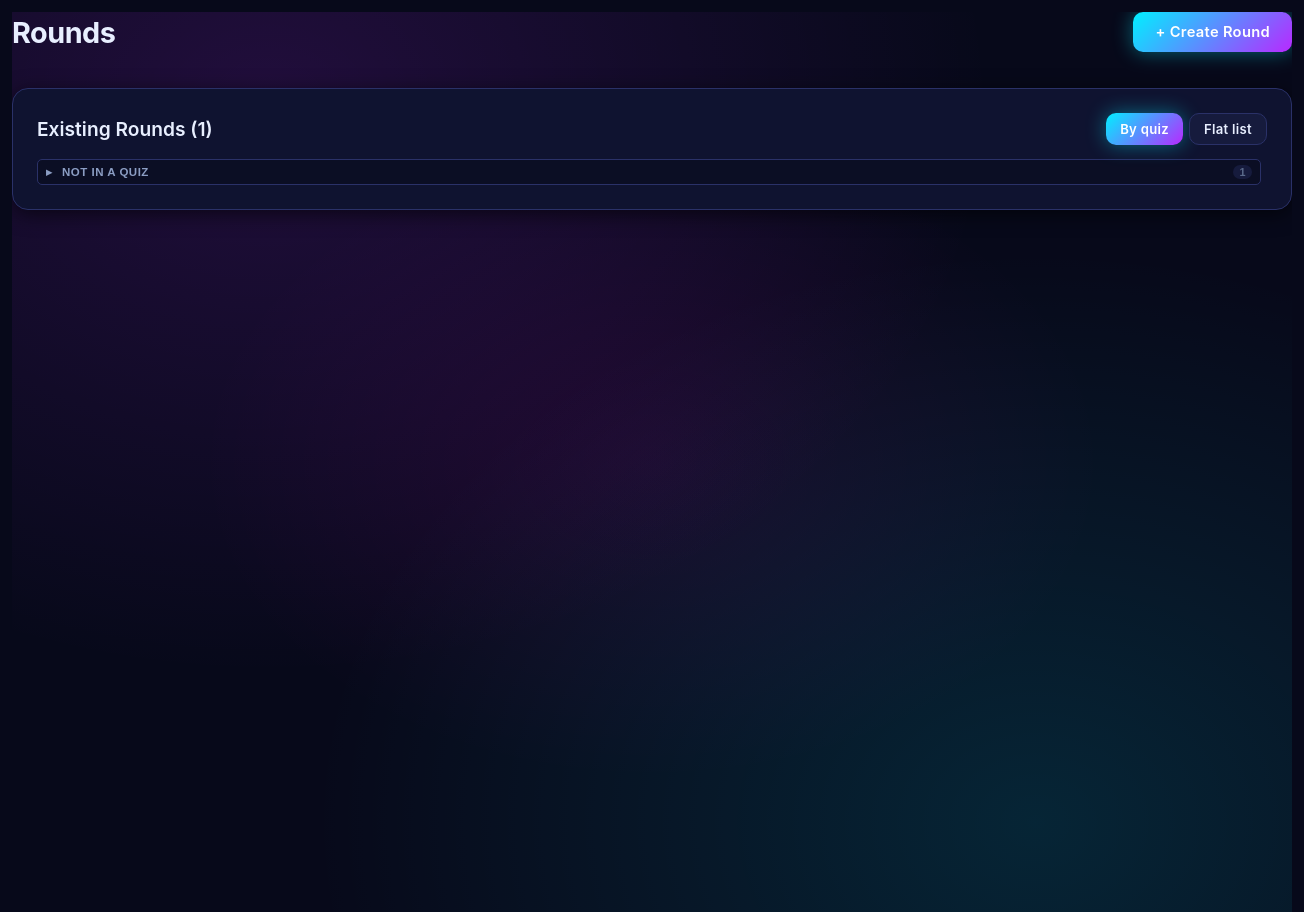
RoundBuilder — round style + category › lists a saved textlist round with Text-list + category badges
Note: Groups start collapsed — open the unassigned group to see the round.
Click the button "▸ Not in a quiz 1".
click(105, 172)  # box 37,159 -> 1261,185
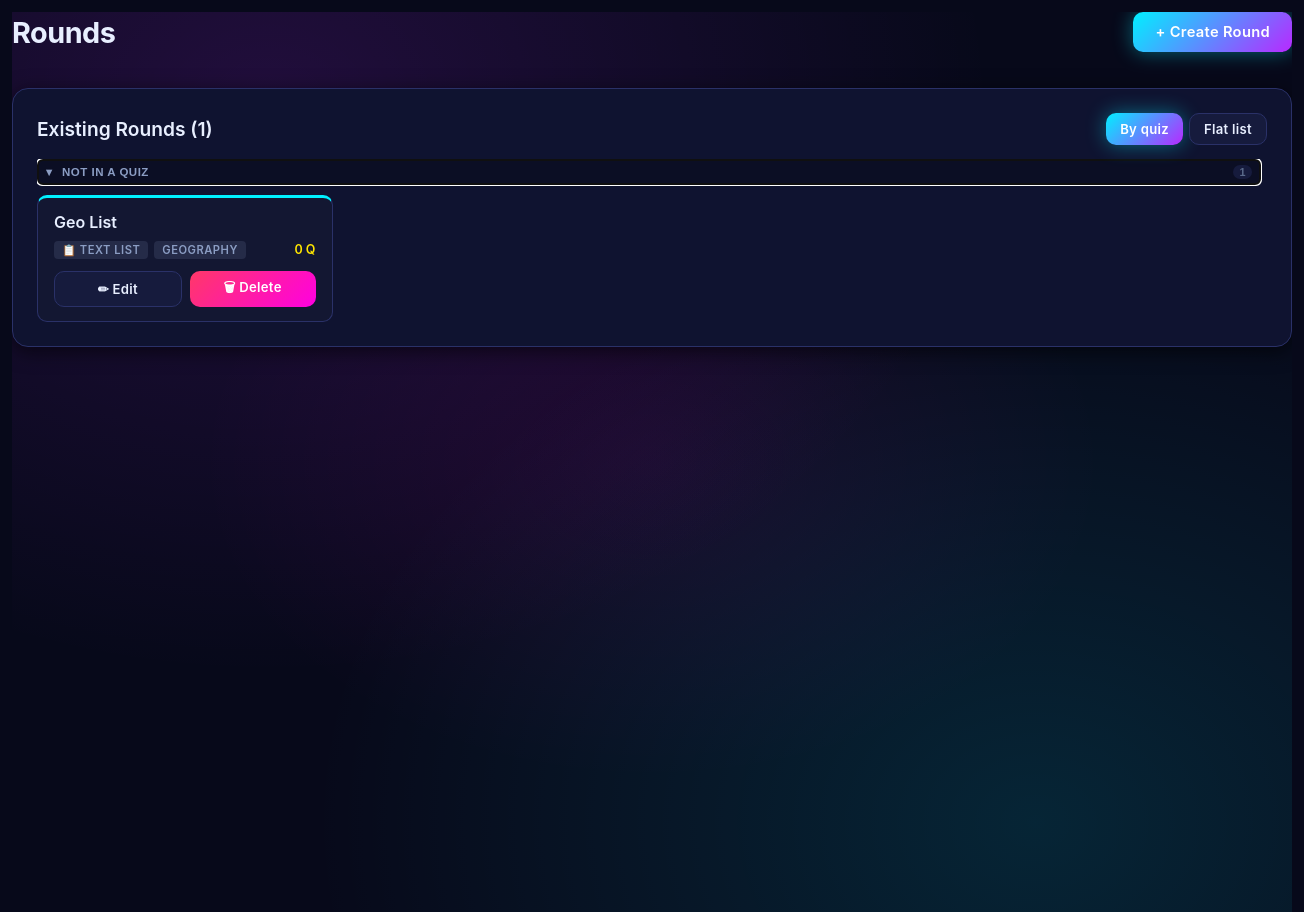
Expected: the heading "Geo List" is shown, 54,212 -> 117,232
Expected: the text "📋 Text list" is shown, 54,241 -> 148,259
Expected: the text "Geography" is shown, 154,241 -> 246,259
